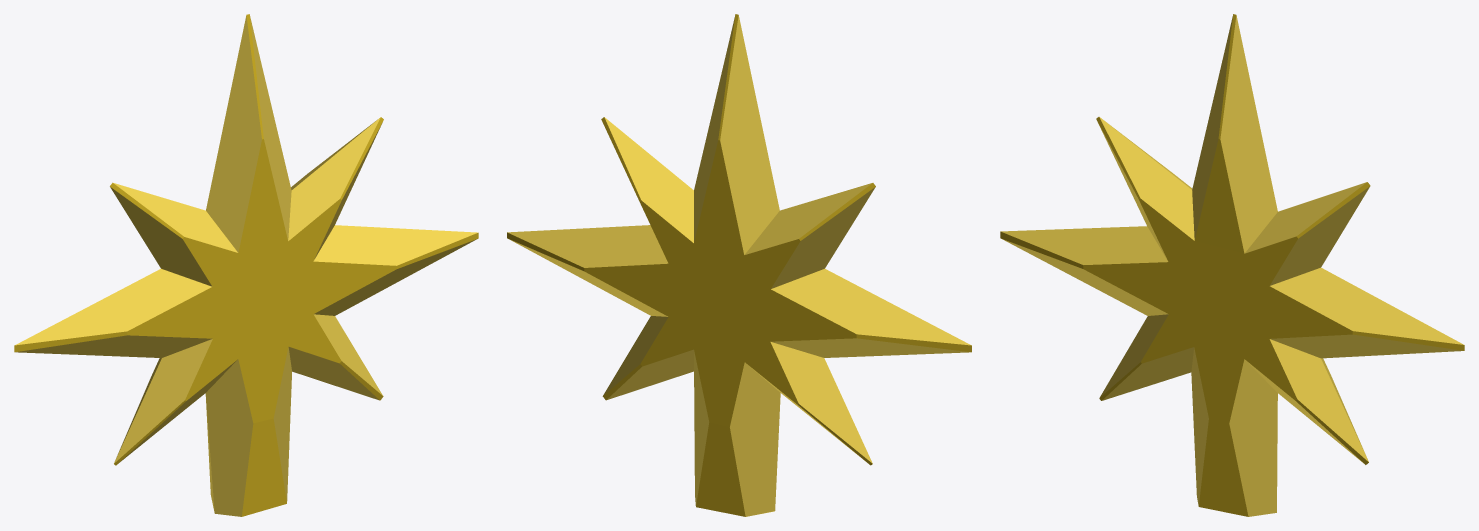
Rendered from Christmas_star.fbx.
3 renders of one model, left to right at view 1: azimuth 30°, elevation 25°; view 2: azimuth 150°, elevation 25°; view 3: azimuth 330°, elevation 25°, orthographic.
Visible parts, largest first — view 1: Christmas_star; view 2: Christmas_star; view 3: Christmas_star.
Part boxes in pixels (<box>): Christmas_star: <box>14,14,478,516</box>; Christmas_star: <box>507,14,971,516</box>; Christmas_star: <box>1000,14,1464,516</box>.
Bounding box in the file's own units: 56.3 × 56.71 × 7.08.
